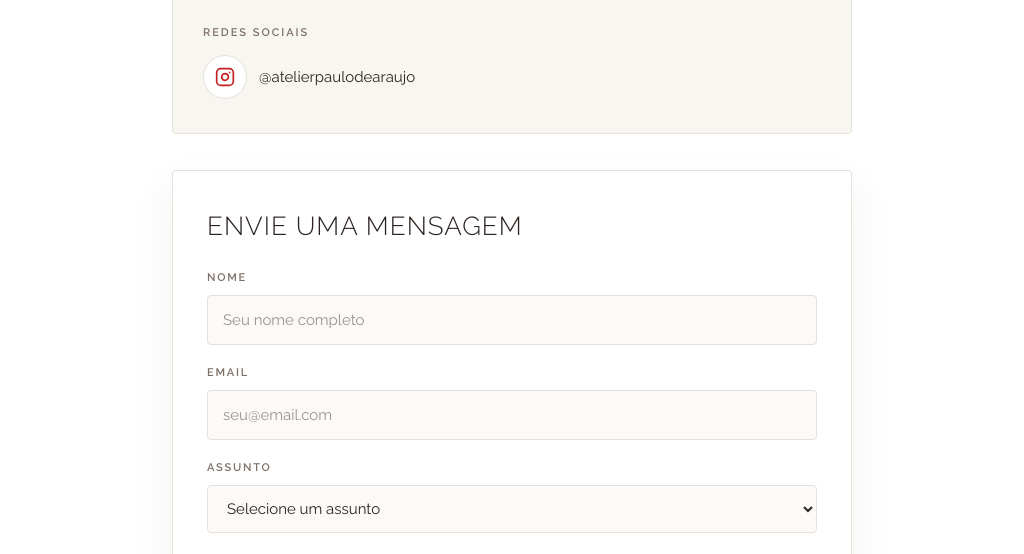
it: Contact › treats a 200 with success:"false" as a failure
(page scrolled)
Step 1. Type "Maria" into the field labelled "Nome" → (512, 320), box [207,294,817,345]
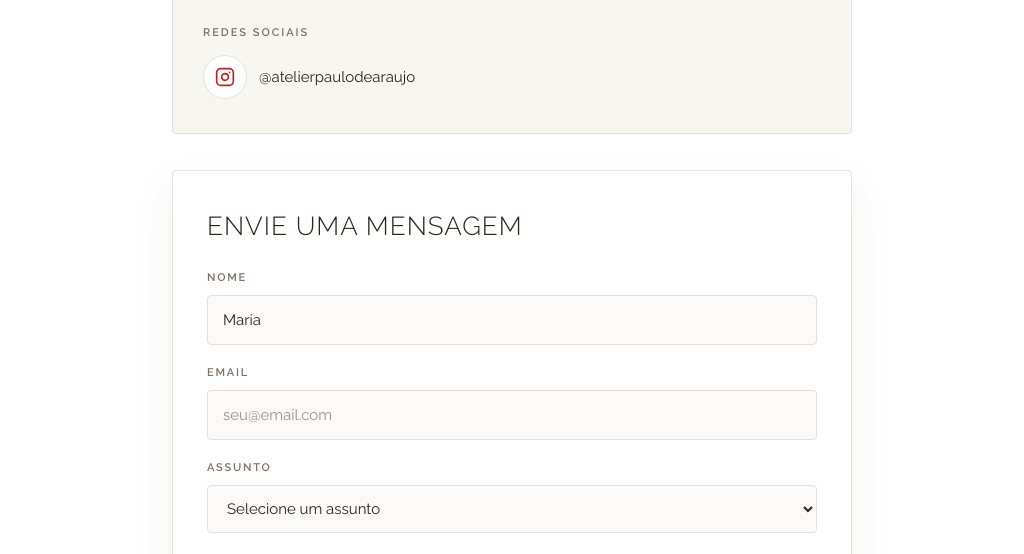
Step 2. Type "maria@exemplo.com" into the field labelled "Email" → (512, 415), box [207,390,817,440]
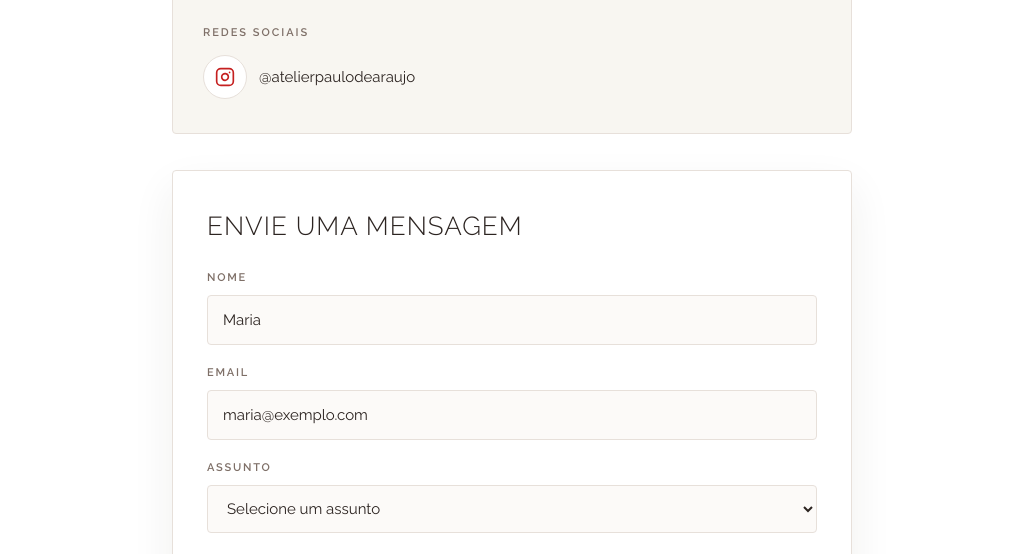
Step 3. Select "Outro" in the dropdown labelled "Assunto" → (512, 508), box [207,484,817,532]
(page scrolled)
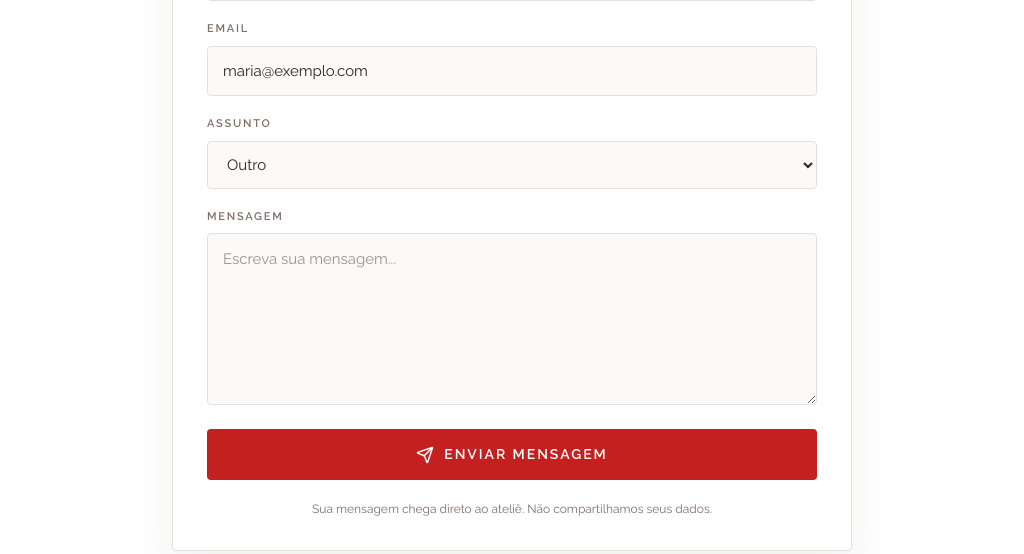
Step 4. Type "Olá" into the text box labelled "Mensagem" → (512, 319), box [207,233,817,405]
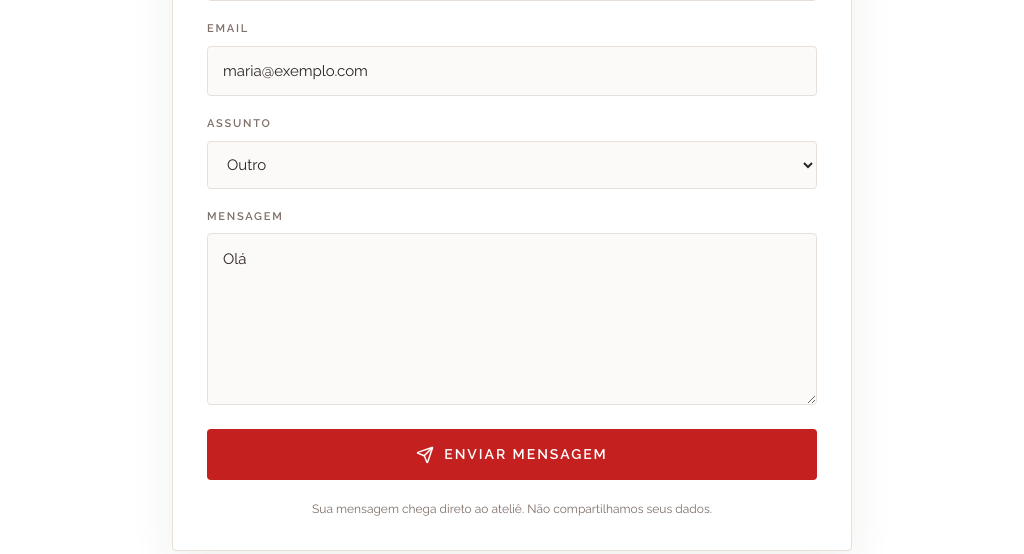
Step 5. Click the button "Enviar Mensagem" → (512, 454), box [207,429,817,480]
(page scrolled)
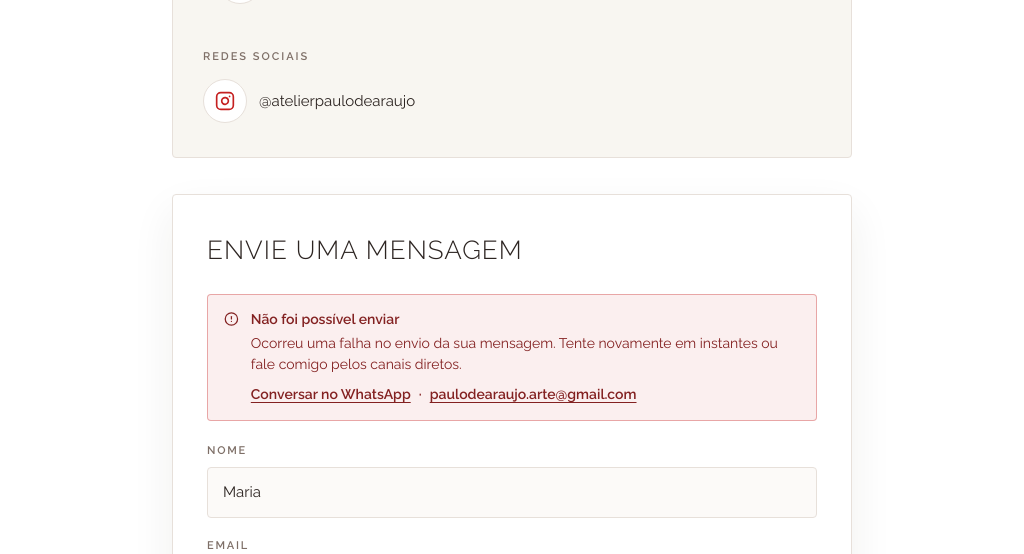
Result: the text "Não foi possível enviar" is shown at [251,311,399,327]
